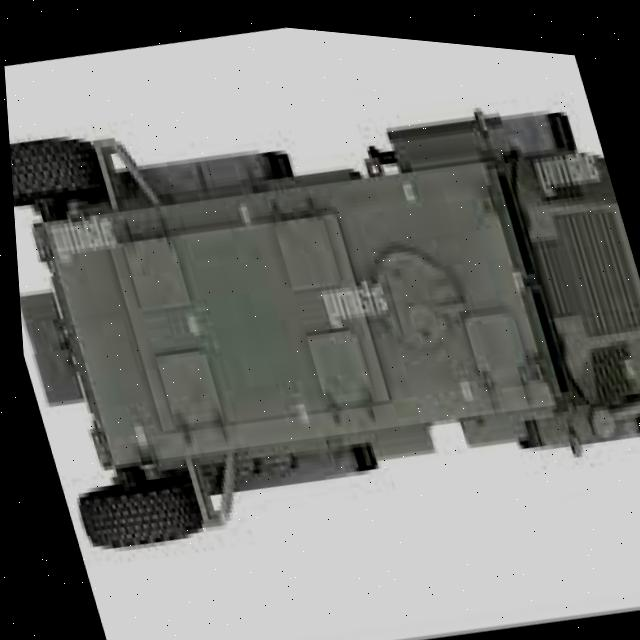truck: (2, 35, 640, 601)
